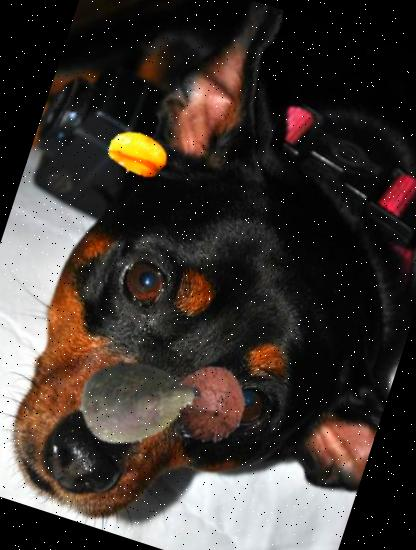Beetroot: (58, 320, 218, 479)
Carambula: (98, 116, 176, 193)
Cocos: (158, 352, 261, 455)
